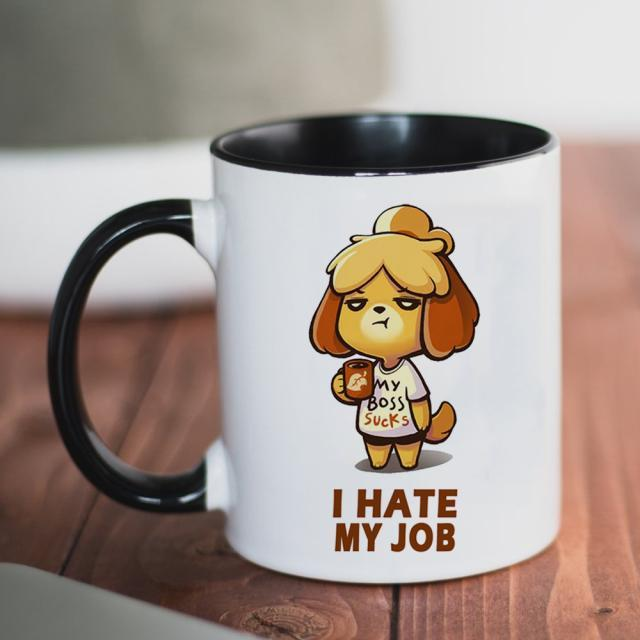Coffee Mug: (49, 110, 564, 594)
